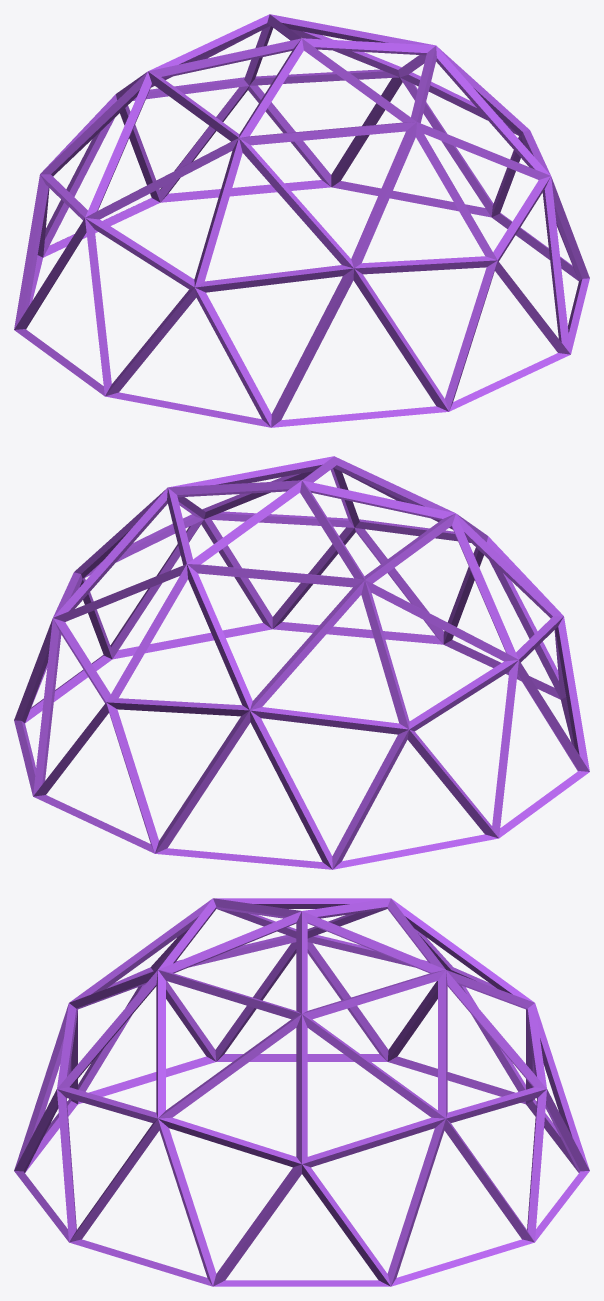
Rendered from shieldgen_dome.fbx.
3 views of the same model, one above another, from view 1: azimuth 30°, elevation 25°; view 2: azimuth 150°, elevation 25°; view 3: azimuth 270°, elevation 25° (orthographic). The views are drawn at different scales.
Parts seen in each view (by area): view 1: part_dome; view 2: part_dome; view 3: part_dome.
Part boxes in pixels (left/top/right/bottom): part_dome: left=14, top=14, right=589, bottom=427; part_dome: left=14, top=456, right=589, bottom=869; part_dome: left=14, top=898, right=589, bottom=1286.
Bounding box in the file's own units: 2.91 × 1.54 × 3.06.
